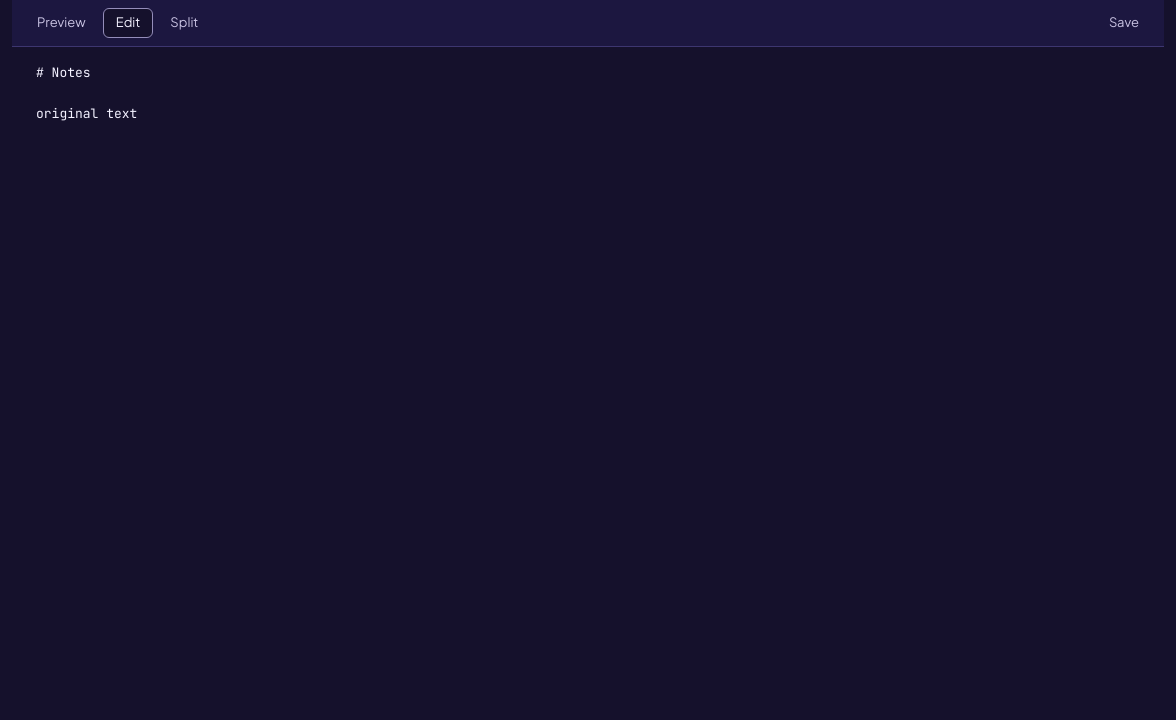
Test: editing › keeps the draft and says why when a save fails
Type "!" into the text box named "notes.md, editor". click: (588,383)
box: [12,46,1164,719]
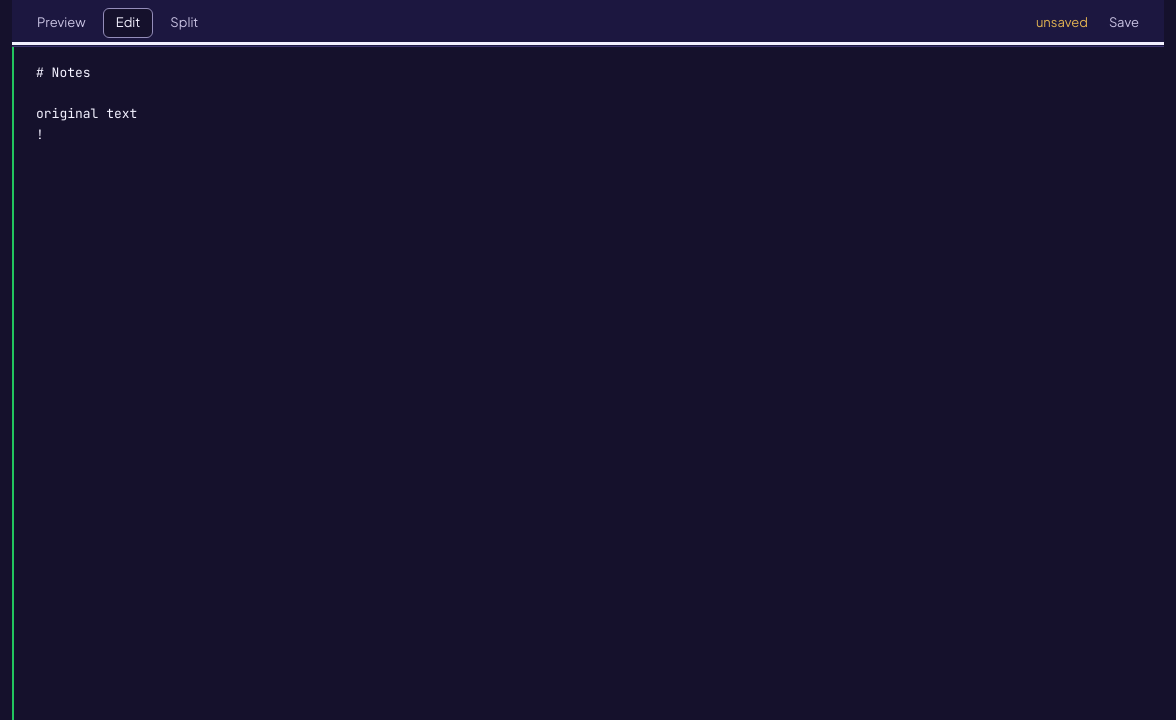
Click the button "Save". click: (1124,23)
box: [1096,8,1152,38]
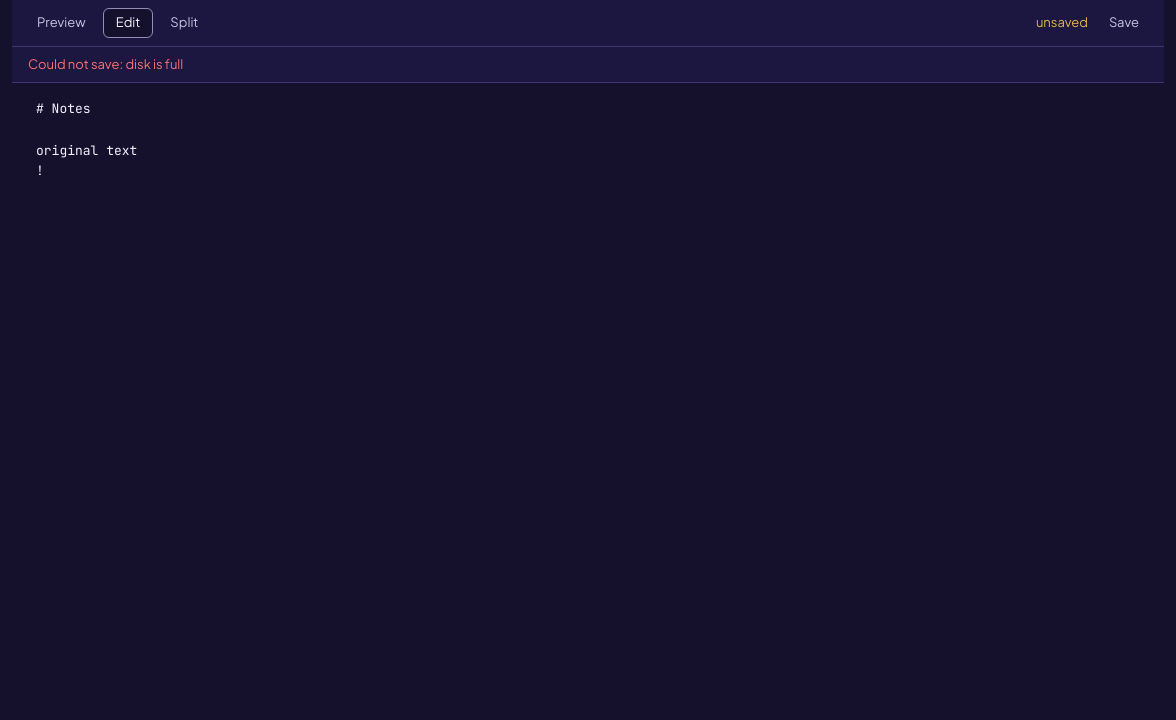
Expected: the text "unsaved" is shown, [1036,13,1088,32]
Expected: the message shows "disk is full", [125,56,183,72]
